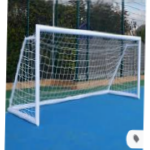goals: (8, 23, 142, 125)
